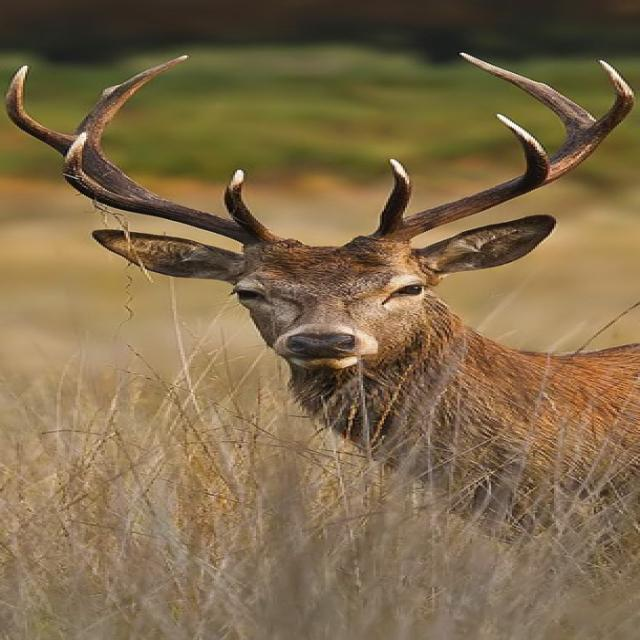L-F: (365, 50, 610, 241)
L-G1: (378, 156, 414, 230)
L-G2: (492, 112, 551, 175)
L-G3: (594, 58, 636, 132)
R-F: (84, 53, 288, 246)
R-G1: (224, 167, 267, 227)
R-G2: (61, 131, 127, 211)
R-G3: (3, 61, 70, 154)
